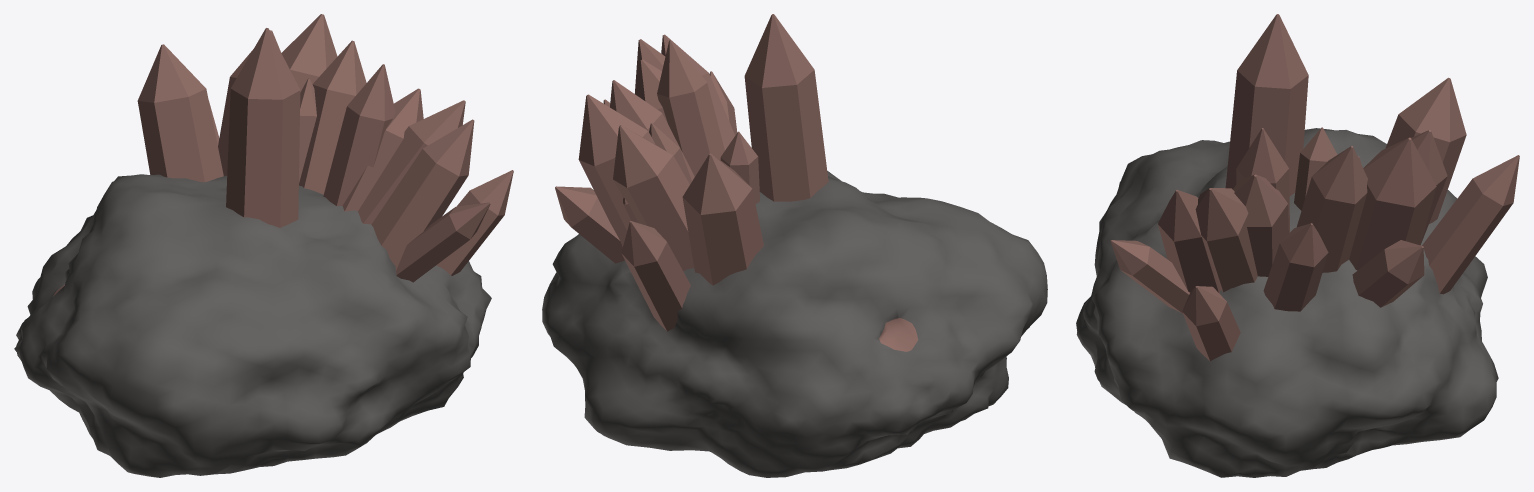
File: tetrahedrite_deep.glb
3 views of the same model, side by side, from view 1: azimuth 30°, elevation 25°; view 2: azimuth 150°, elevation 25°; view 3: azimuth 270°, elevation 25° (orthographic). The views are drawn at different scales.
Visible parts, largest first — view 1: tetrahedrite_deep; view 2: tetrahedrite_deep; view 3: tetrahedrite_deep.
Part boxes in pixels (x1,y1,x2,y2): tetrahedrite_deep: (14,14,513,477); tetrahedrite_deep: (542,14,1047,477); tetrahedrite_deep: (1076,14,1519,477).
Bounding box in the file's own units: 1.85 × 1.5 × 1.57.
